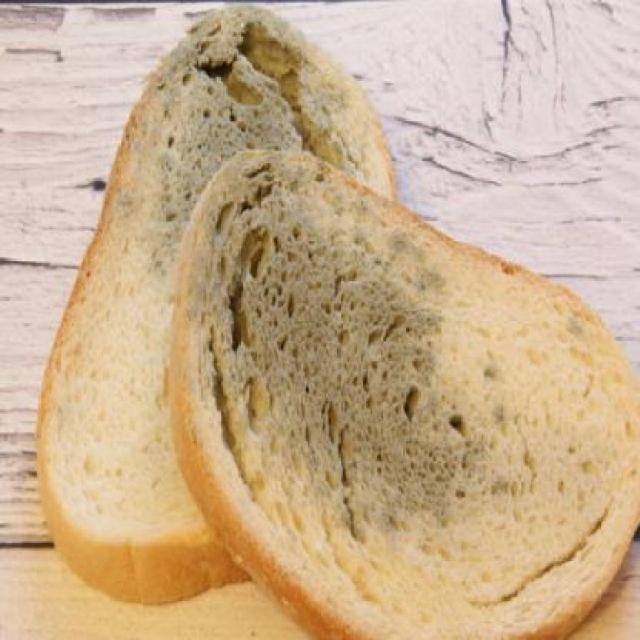mold_bread: (189, 215, 501, 515), (136, 9, 355, 210), (143, 219, 190, 278)
